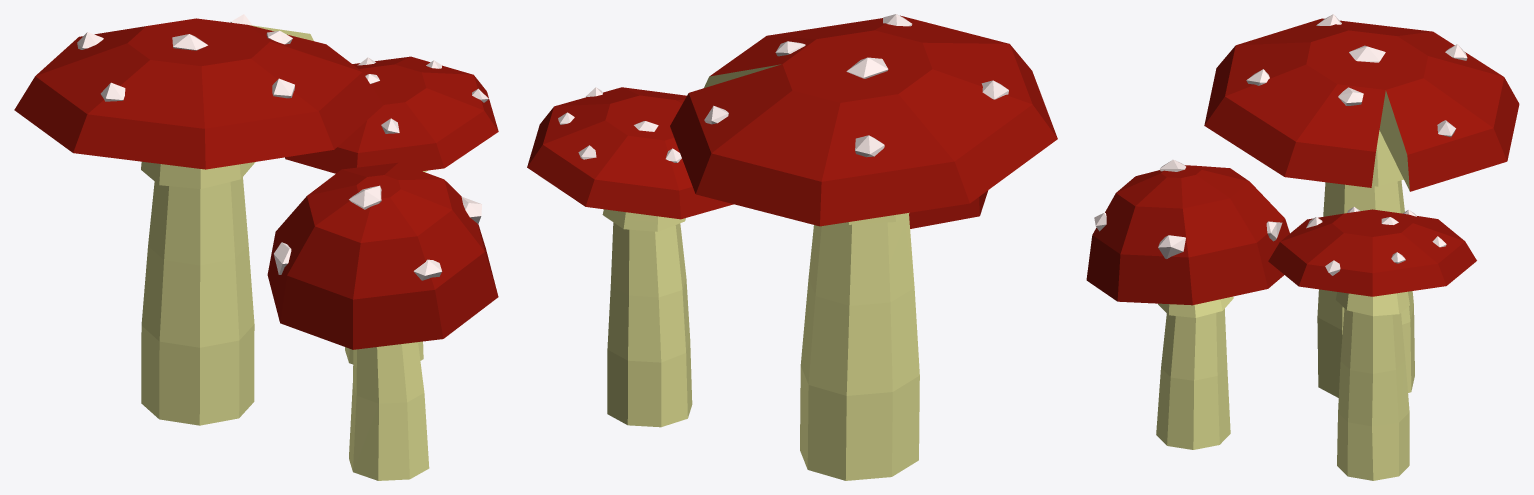
The model's file is mushroom_triple.obj.
3 renders of one model, left to right at view 1: azimuth 30°, elevation 25°; view 2: azimuth 150°, elevation 25°; view 3: azimuth 270°, elevation 25°, orthographic. The views are drawn at different scales.
Parts seen in each view (by area): view 1: Circle.002_Mushroom_White_0; view 2: Circle.002_Mushroom_White_0; view 3: Circle.002_Mushroom_White_0.
Boxes of the visible parts, box(x1,y1,x2,y2) form: Circle.002_Mushroom_White_0: box(14, 14, 498, 480); Circle.002_Mushroom_White_0: box(527, 14, 1057, 480); Circle.002_Mushroom_White_0: box(1086, 14, 1519, 480).
Bounding box in the file's own units: 10.82 × 8.89 × 10.15.
